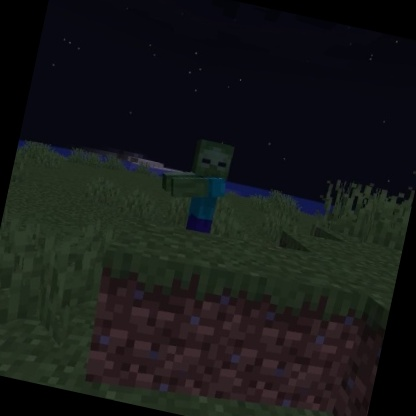zombie: (150, 130, 243, 238)
